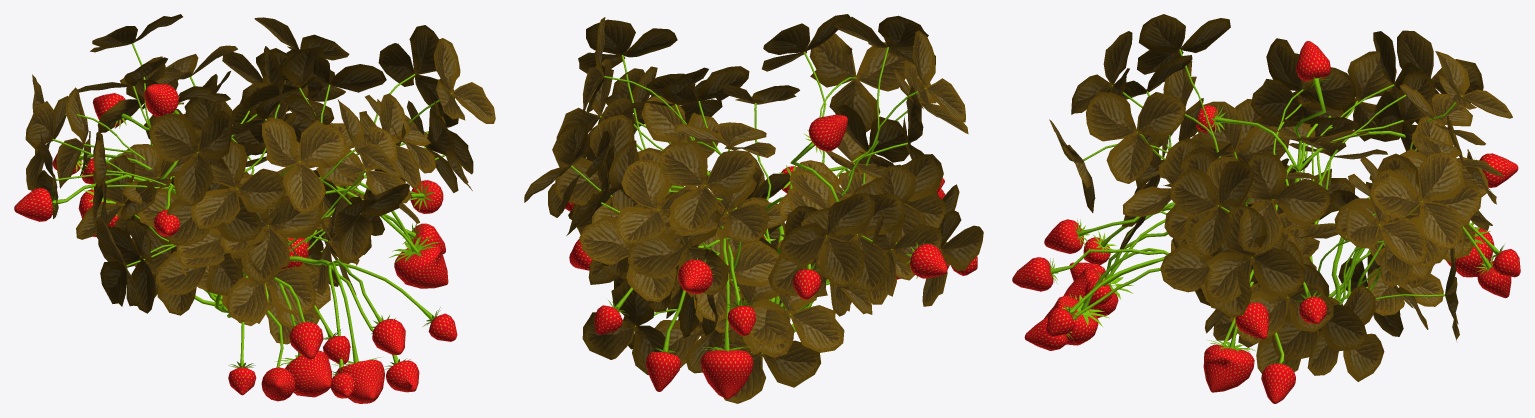
The model's file is strawberry_leafscorch.dae.
The picture shows the model from 3 angles, left to right: view 1: azimuth 30°, elevation 25°; view 2: azimuth 150°, elevation 25°; view 3: azimuth 270°, elevation 25°; orthographic projection. The views are drawn at different scales.
Visible parts, largest first — view 1: Strawberry_001; view 2: Strawberry_001; view 3: Strawberry_001.
Part boxes in pixels (x1,y1,x2,y2): Strawberry_001: [14, 14, 495, 403]; Strawberry_001: [524, 14, 983, 403]; Strawberry_001: [1012, 14, 1520, 403].
Size of the model in its own units: 0.4843 by 0.5047 by 0.3214.
Materials: 5 (5 with a texture image).
